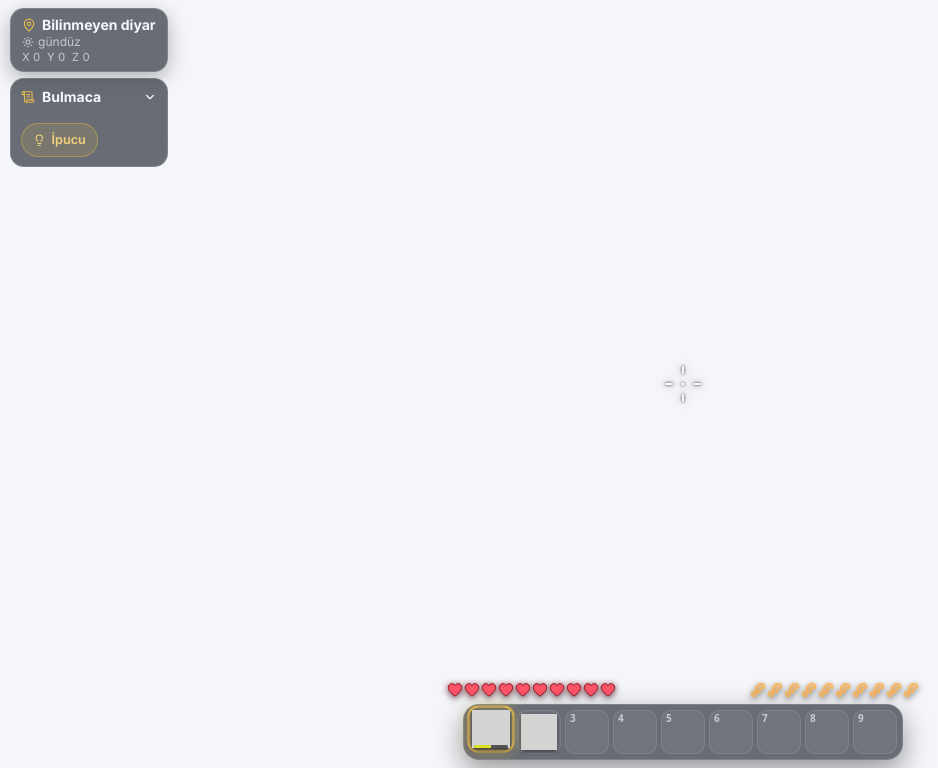
Test: KesifHud: bilgi çipi, görev, boss, parkur › görev ipucu düğmesi yalnız getPuzzleHint eylemi varsa
The width and height of the screenshot is (938, 768).
Click the button "İpucu" at (59, 140), box [21,123,98,157]
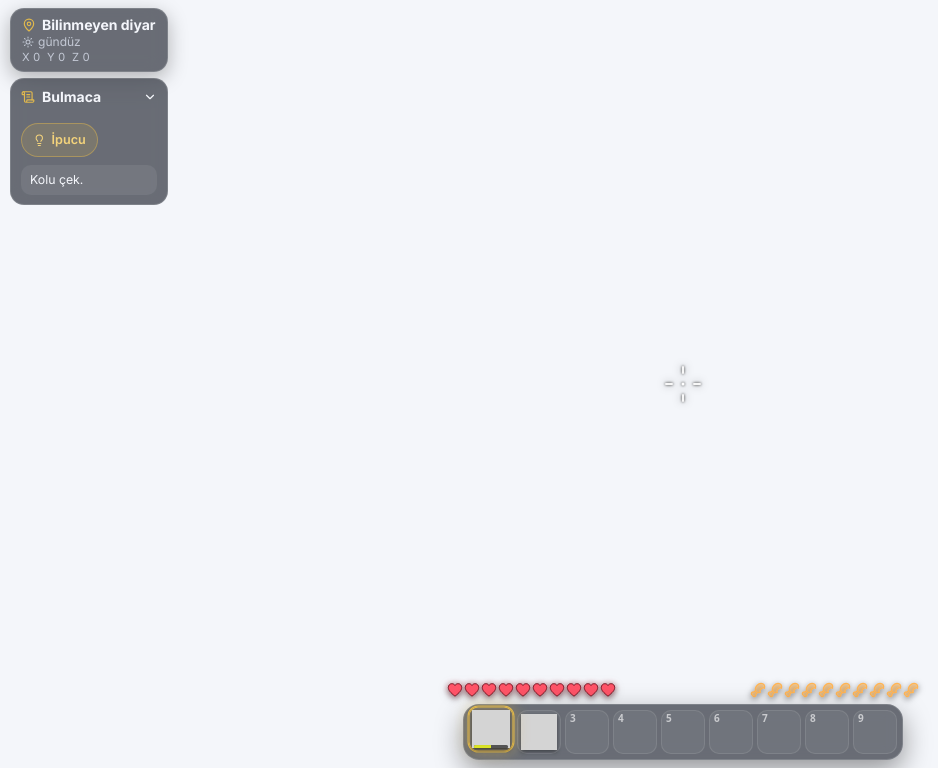
Check: the text "Kolu çek." is shown, box [21,165,156,195]
